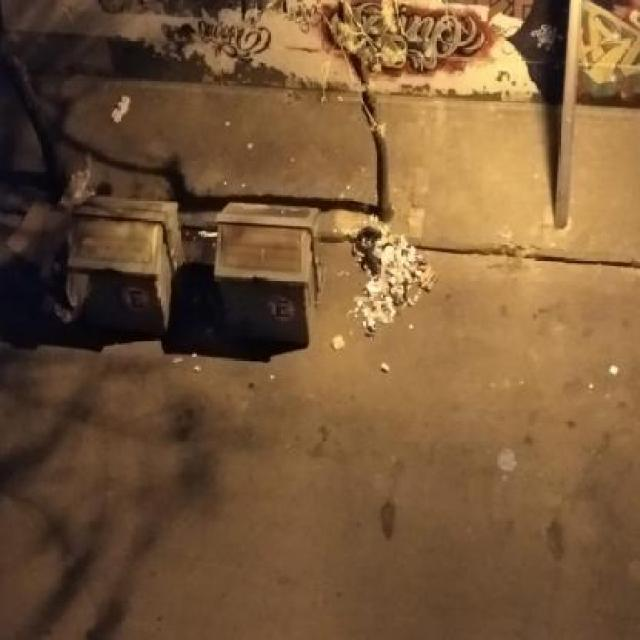garbage: (43, 149, 484, 440)
